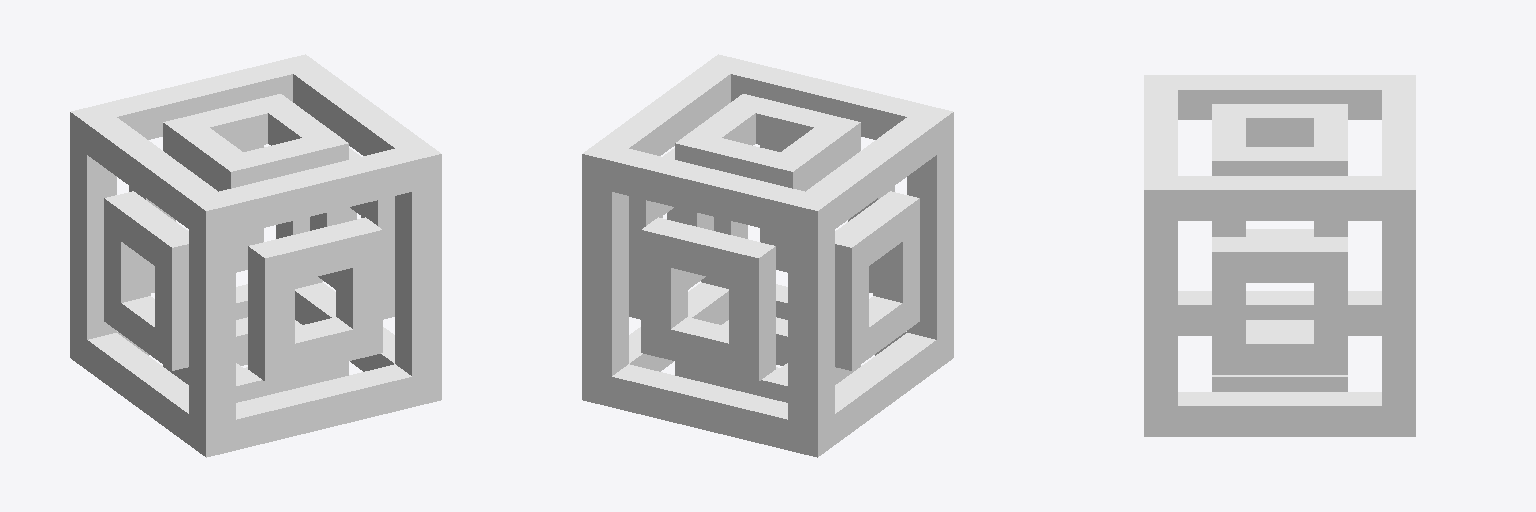
File: gameCube_8_a.obj
3 renders of one model, left to right at view 1: azimuth 30°, elevation 25°; view 2: azimuth 150°, elevation 25°; view 3: azimuth 270°, elevation 25°, orthographic.
Parts seen in each view (by area): view 1: gameCube_8_a; view 2: gameCube_8_a; view 3: gameCube_8_a.
Boxes of the visible parts, box(x1,y1,x2,y2) form: gameCube_8_a: box(70, 54, 441, 457); gameCube_8_a: box(582, 54, 953, 457); gameCube_8_a: box(1144, 75, 1415, 436).
Bounding box in the file's own units: 8 × 8 × 8.